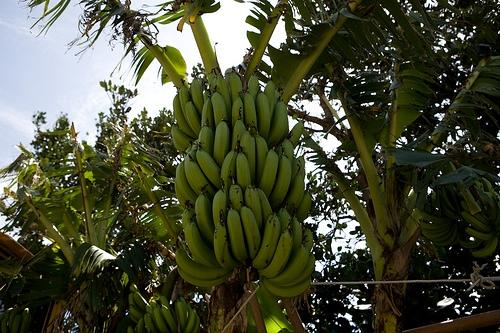banana: (176, 238, 231, 280), (267, 235, 310, 285), (185, 213, 222, 267), (213, 209, 243, 270), (252, 211, 282, 270), (260, 228, 294, 280), (268, 144, 292, 212), (220, 139, 241, 208), (226, 200, 248, 265), (188, 153, 218, 199), (277, 160, 302, 213), (240, 201, 262, 259), (195, 184, 215, 246), (258, 142, 278, 200), (252, 120, 269, 188), (216, 66, 232, 138), (173, 94, 198, 140), (196, 145, 221, 190), (262, 276, 312, 298), (176, 160, 199, 206), (244, 184, 262, 240), (240, 124, 256, 184), (236, 145, 251, 206), (201, 84, 216, 144), (460, 197, 491, 226), (214, 116, 230, 170), (256, 188, 272, 240), (211, 84, 229, 129), (184, 146, 200, 196), (256, 84, 270, 141), (190, 72, 205, 120), (229, 170, 244, 215), (471, 233, 498, 258), (198, 118, 214, 158), (185, 101, 202, 138), (153, 301, 172, 333), (244, 92, 256, 138), (160, 302, 178, 332), (263, 80, 275, 123), (288, 120, 304, 149), (464, 227, 494, 242), (146, 305, 162, 333), (128, 292, 147, 314), (230, 72, 243, 104), (423, 204, 449, 218), (172, 137, 190, 156), (182, 310, 196, 333), (176, 300, 186, 332), (144, 312, 158, 332), (421, 224, 452, 233), (18, 308, 28, 332), (159, 296, 171, 314), (192, 306, 200, 332), (130, 281, 143, 296), (203, 188, 214, 204), (150, 300, 158, 309), (195, 286, 198, 290)
